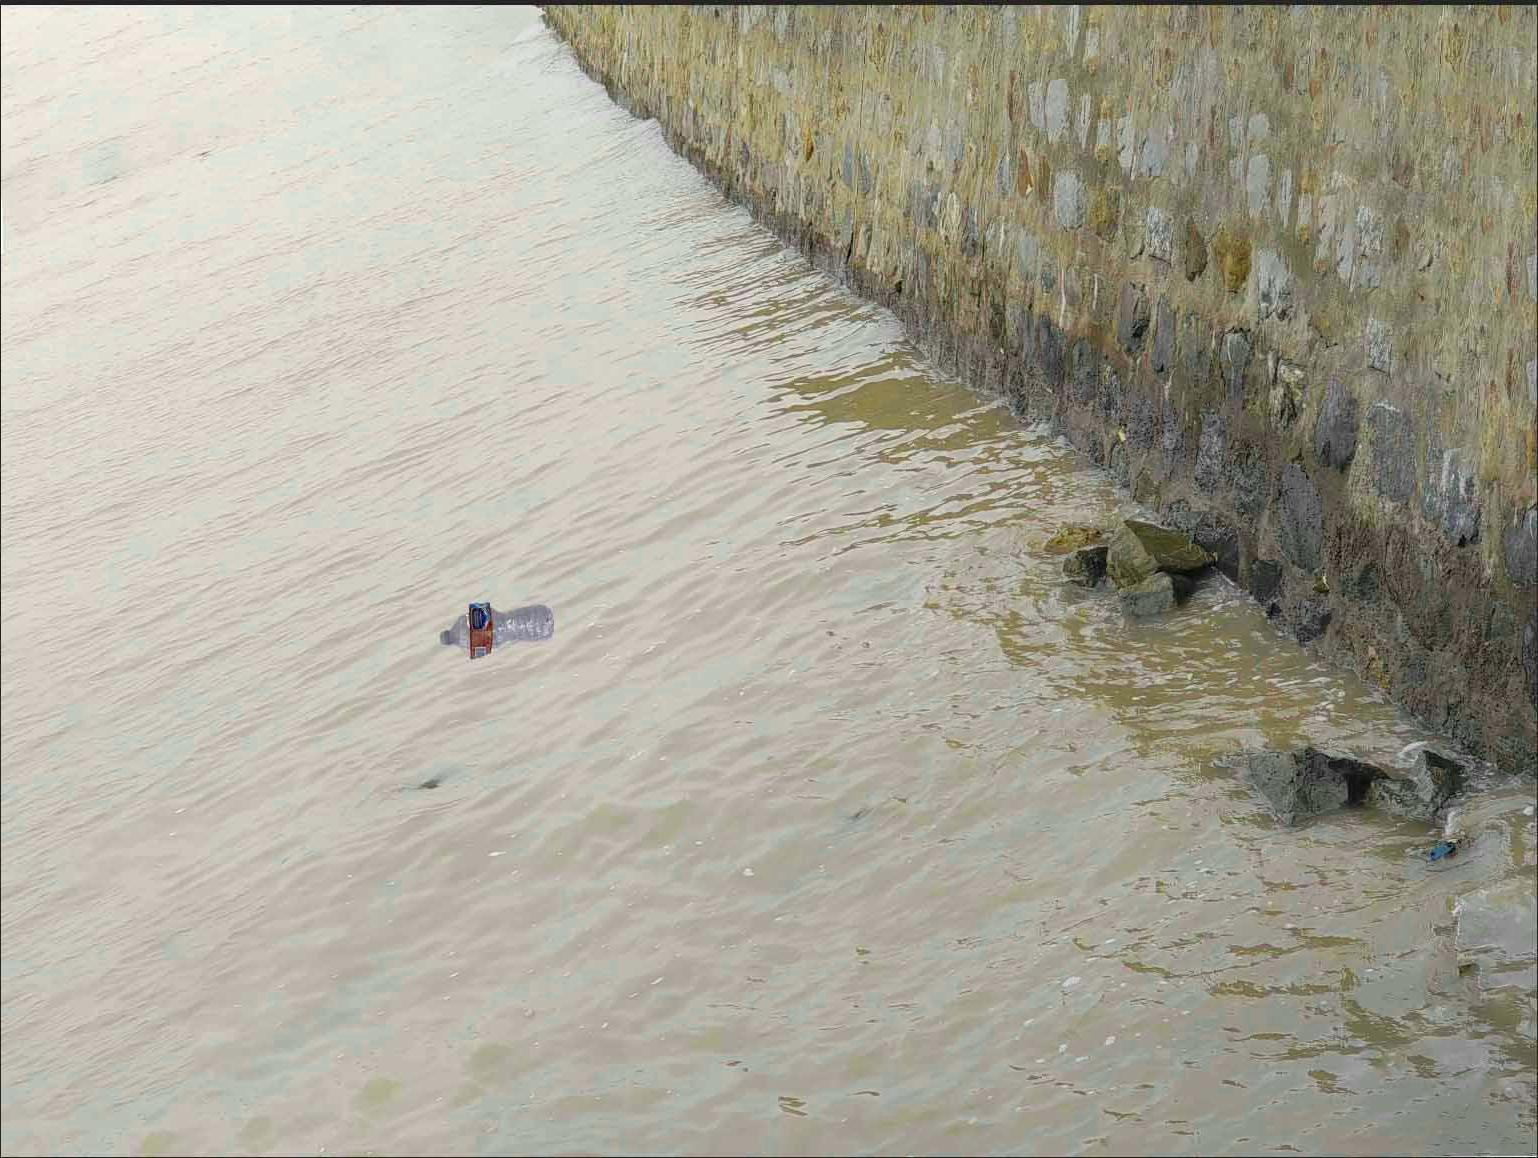Plastic: (426, 601, 557, 660)
